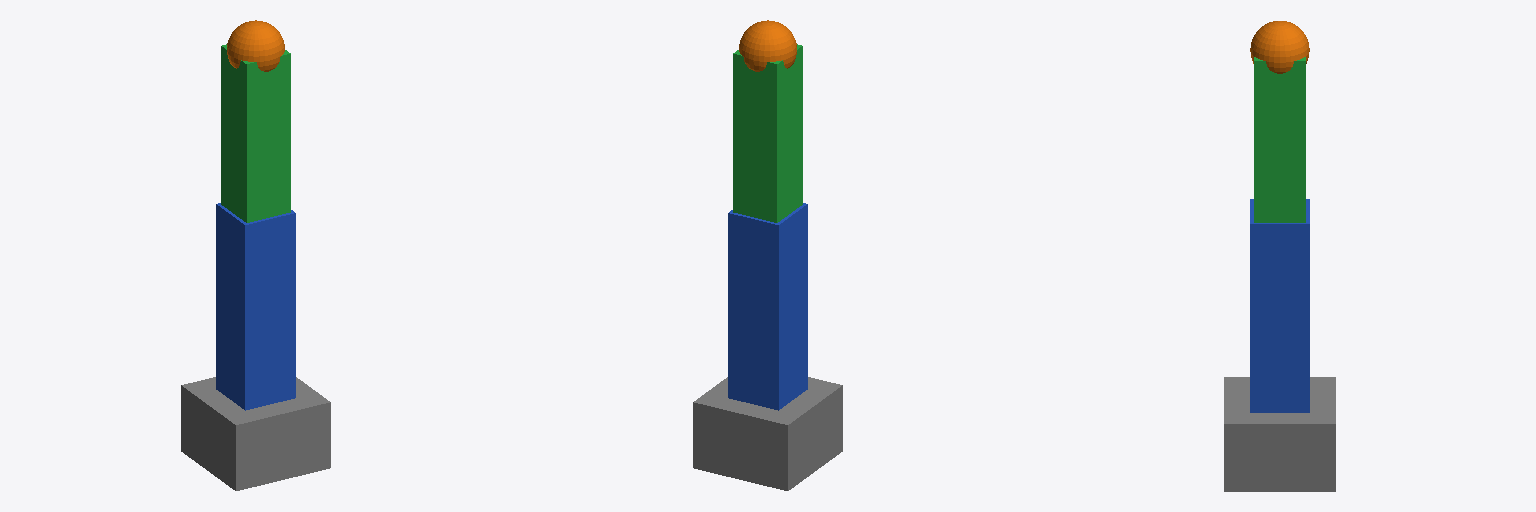
URDF robot description (simple_arm):
<?xml version="1.0"?>
<!--
  Robot: simple_arm
  Generated by: LinkForge v1.3.4
  https://github.com/arounamounchili/linkforge
  Date: 2026-05-29 09:25:07
-->
<robot name="simple_arm">
  <!-- Materials -->
  <material name="blue">
    <color rgba="0.2 0.4 0.8 1" />
  </material>
  <material name="green">
    <color rgba="0.2 0.7 0.3 1" />
  </material>
  <material name="grey">
    <color rgba="0.55 0.55 0.55 1" />
  </material>
  <material name="orange">
    <color rgba="0.9 0.5 0.1 1" />
  </material>
  <!-- Links -->
  <link name="base_link">
    <visual>
      <origin xyz="0 0 0.05" rpy="0 0 0" />
      <geometry>
        <box size="0.15 0.15 0.1" />
      </geometry>
      <material name="grey" />
    </visual>
    <collision>
      <origin xyz="0 0 0.05" rpy="0 0 0" />
      <geometry>
        <mesh filename="meshes/base_link_collision.stl" />
      </geometry>
    </collision>
  </link>
  <link name="forearm_link">
    <inertial>
      <mass value="0.8" />
      <inertia ixx="0.005" ixy="0" ixz="0" iyy="0.005" iyz="0" izz="0.005" />
    </inertial>
    <visual>
      <origin xyz="0 0 0.12" rpy="0 0 0" />
      <geometry>
        <box size="0.07 0.07 0.24" />
      </geometry>
      <material name="green" />
    </visual>
    <collision>
      <origin xyz="0 0 0.12" rpy="0 0 0" />
      <geometry>
        <mesh filename="meshes/forearm_link_collision.stl" />
      </geometry>
    </collision>
  </link>
  <link name="upper_arm_link">
    <inertial>
      <mass value="1" />
      <inertia ixx="0.01" ixy="0" ixz="0" iyy="0.01" iyz="0" izz="0.01" />
    </inertial>
    <visual>
      <origin xyz="0 0 0.14" rpy="0 0 0" />
      <geometry>
        <box size="0.08 0.08 0.28" />
      </geometry>
      <material name="blue" />
    </visual>
    <collision>
      <origin xyz="0 0 0.14" rpy="0 0 0" />
      <geometry>
        <mesh filename="meshes/upper_arm_link_collision.stl" />
      </geometry>
    </collision>
  </link>
  <link name="wrist_link">
    <inertial>
      <mass value="0.3" />
      <inertia ixx="0.001" ixy="0" ixz="0" iyy="0.001" iyz="0" izz="0.001" />
    </inertial>
    <visual>
      <geometry>
        <sphere radius="0.04" />
      </geometry>
      <material name="orange" />
    </visual>
    <collision>
      <origin xyz="0 0 0" rpy="0 0 0" />
      <geometry>
        <mesh filename="meshes/wrist_link_collision.stl" />
      </geometry>
    </collision>
  </link>
  <!-- Joints -->
  <joint name="elbow_flex" type="revolute">
    <origin xyz="0 0 0.24" rpy="0 0 0" />
    <parent link="forearm_link" />
    <child link="wrist_link" />
    <axis xyz="0 1 0" />
    <limit effort="10" velocity="1" lower="-1.5708" upper="1.5708" />
    <dynamics damping="0.1" friction="0" />
  </joint>
  <joint name="shoulder_lift" type="revolute">
    <origin xyz="0 0 0.28" rpy="0 0 0" />
    <parent link="upper_arm_link" />
    <child link="forearm_link" />
    <axis xyz="0 1 0" />
    <limit effort="10" velocity="1" lower="-1.5708" upper="1.5708" />
    <dynamics damping="0.1" friction="0" />
  </joint>
  <joint name="shoulder_pan" type="revolute">
    <origin xyz="0 0 0.1" rpy="0 0 0" />
    <parent link="base_link" />
    <child link="upper_arm_link" />
    <axis xyz="0 0 1" />
    <limit effort="10" velocity="1" lower="-3.14159" upper="3.14159" />
    <dynamics damping="0.1" friction="0" />
  </joint>
</robot>

--- What the picture shows (computed from the rendered views, not written in the file) ---
Views: 3 orthographic renders of the robot side by side, from view 1: azimuth 30°, elevation 25°; view 2: azimuth 150°, elevation 25°; view 3: azimuth 270°, elevation 25°.
Model simple_arm with 4 links and 3 joints (3 revolute), rooted at base_link, posed every joint at zero.
Links seen in each view (by area): view 1: upper_arm_link, base_link, forearm_link, wrist_link; view 2: upper_arm_link, base_link, forearm_link, wrist_link; view 3: upper_arm_link, base_link, forearm_link, wrist_link.
Boxes of the visible links, x1,y1,x2,y2 form: upper_arm_link: (216,203,295,410); base_link: (181,377,330,490); forearm_link: (221,44,290,222); wrist_link: (227,20,284,71); upper_arm_link: (728,203,807,410); base_link: (693,377,842,490); forearm_link: (733,44,802,222); wrist_link: (739,20,796,71); upper_arm_link: (1250,199,1309,412); base_link: (1224,377,1335,491); forearm_link: (1254,57,1305,222); wrist_link: (1250,21,1309,73).
Size in the robot's own frame: 0.15 by 0.15 by 0.66 metres.
Geometry: primitives only (box / cylinder / sphere), no mesh files.
